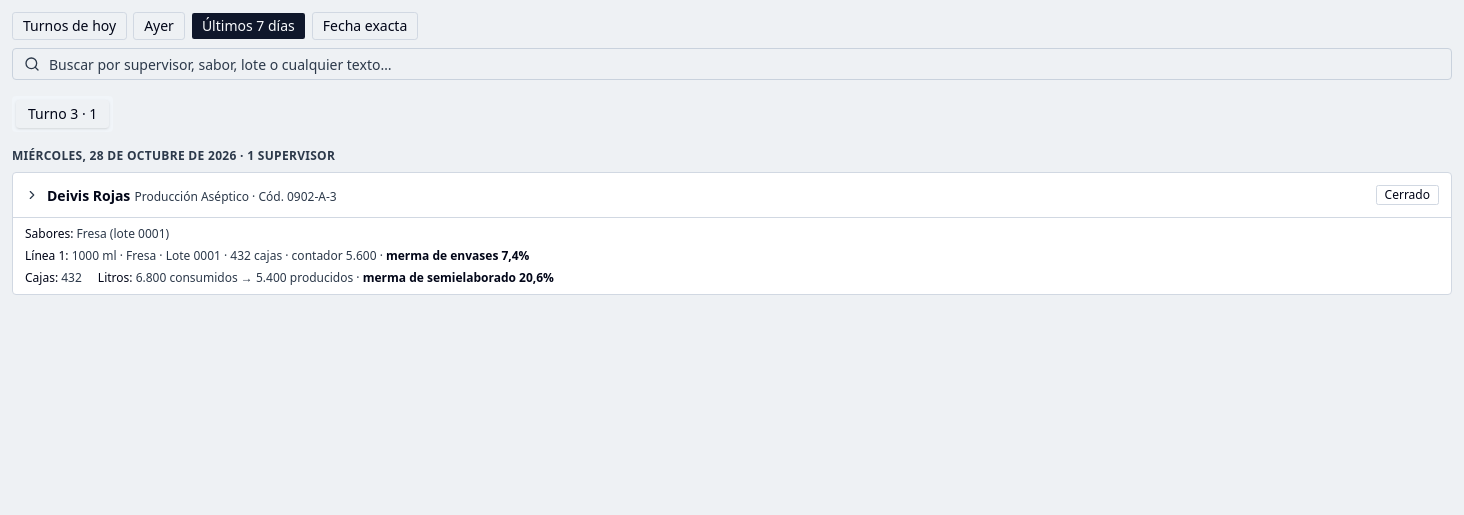
Test: AuditoriaTurnos › abre la línea de tiempo al hacer clic en la fila (empieza contraída)
Expected: the text "Comenzar Turno" is not shown
Click the button "Deivis Rojas Producción Aséptico · Cód. 0902-A-3" at (89, 196), box [25, 183, 1368, 207]
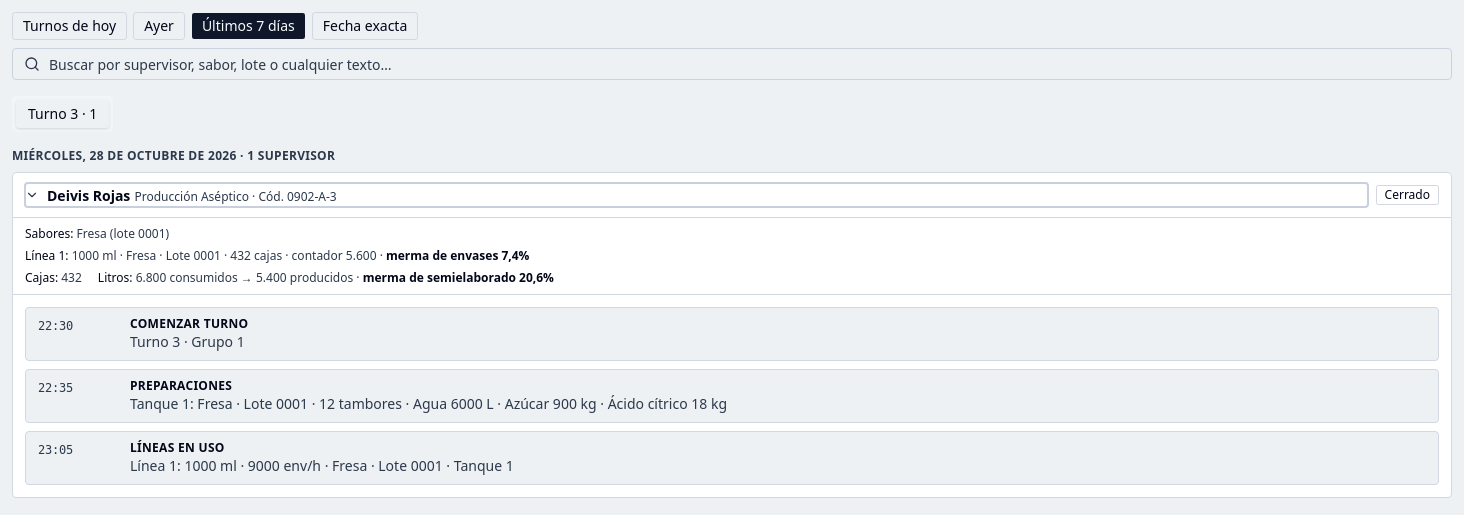
Expected: the text "Comenzar Turno" is shown, [130, 316, 248, 332]
